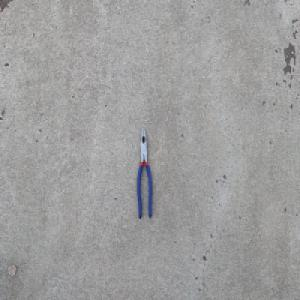Pliers: (136, 127, 152, 221)
